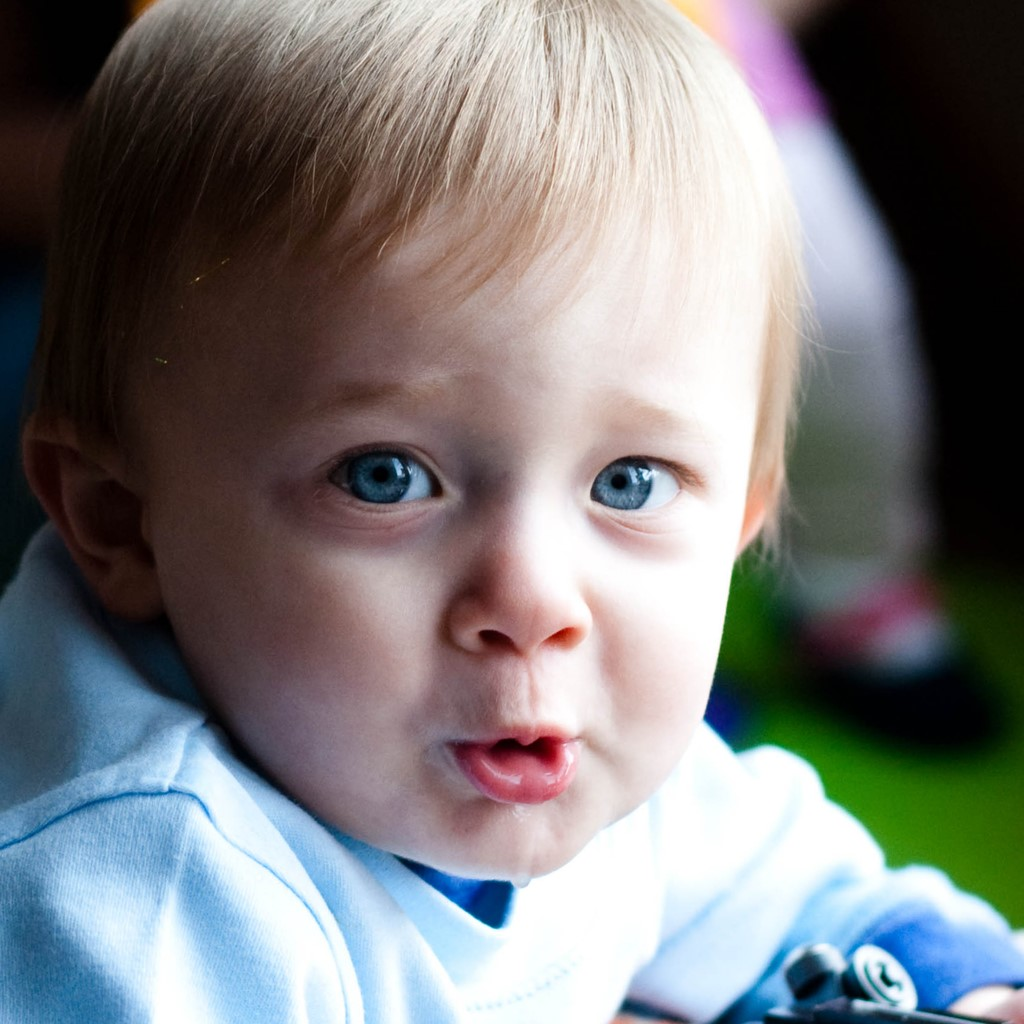sin_mascara: (102, 5, 748, 861)
